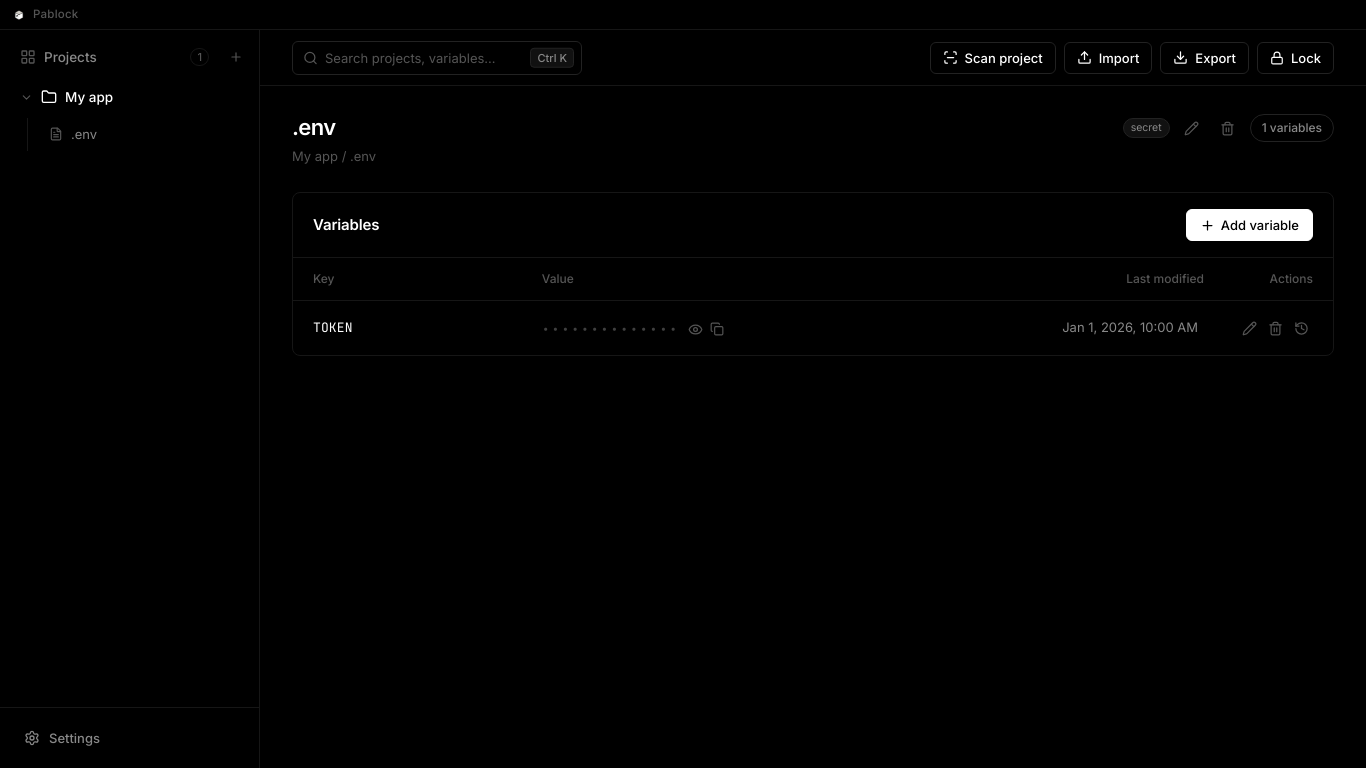
vault workflows › previews replace import before applying changes
This screenshot has width=1366, height=768.
Click the button with aria-label "Import files": (1108, 58) x1=1064 y1=42 x2=1152 y2=74
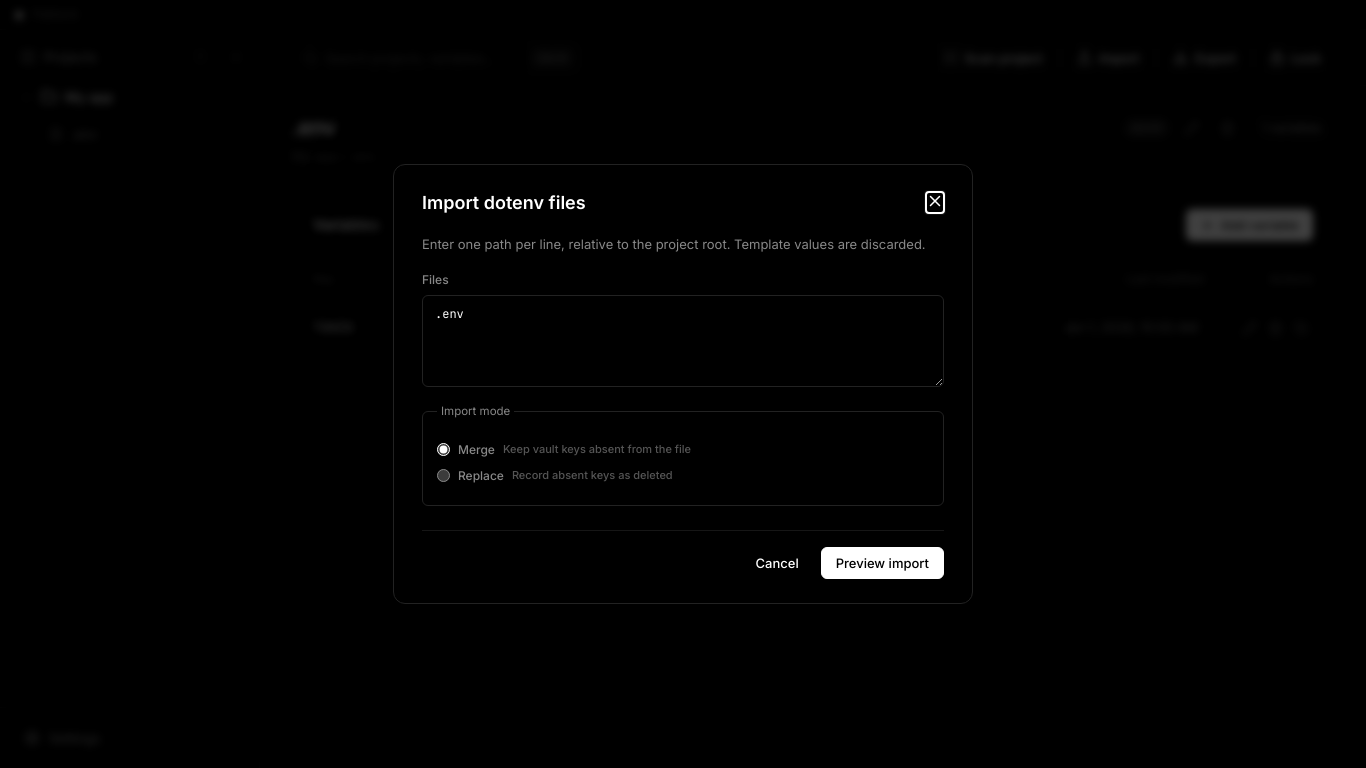
Click the radio button labelled "Replace Record absent keys as deleted": (444, 476) x1=437 y1=469 x2=450 y2=482
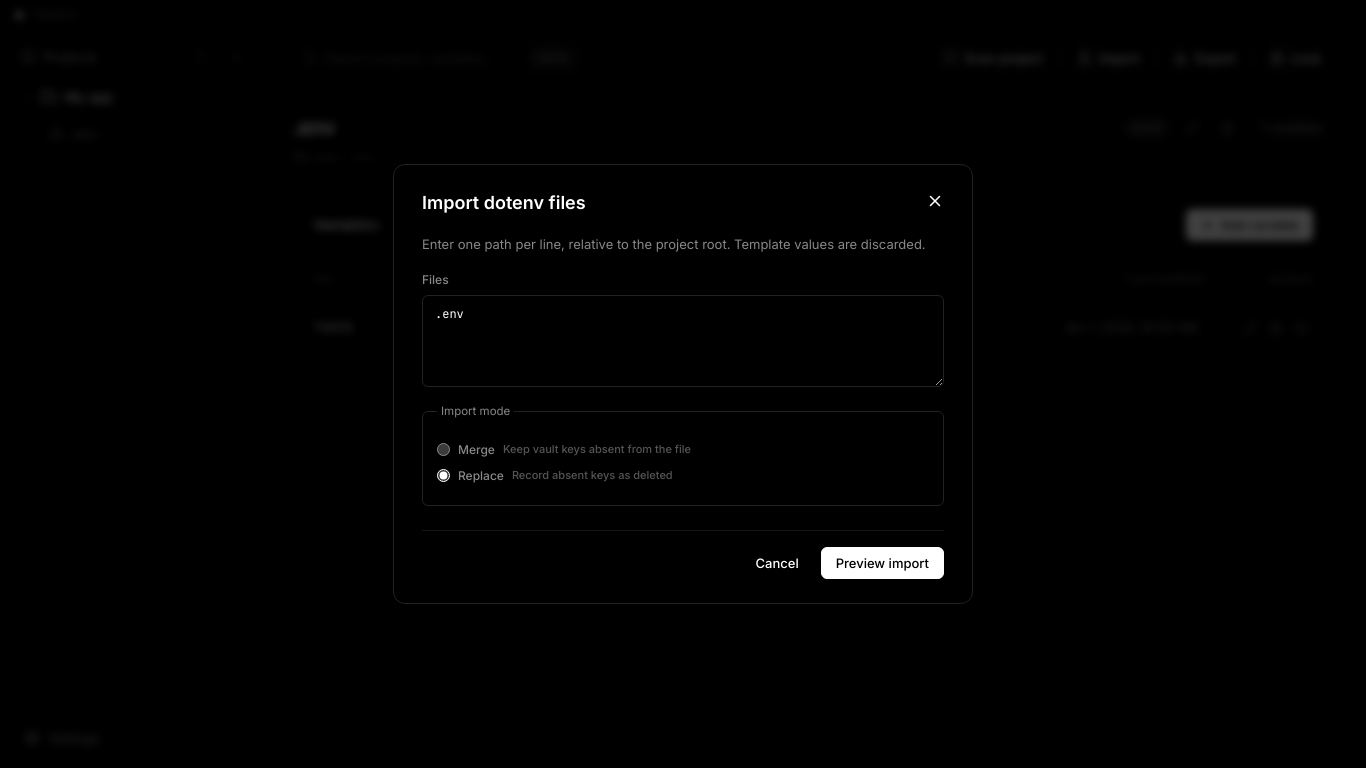
Click the button "Preview import": (882, 562) x1=821 y1=546 x2=944 y2=578
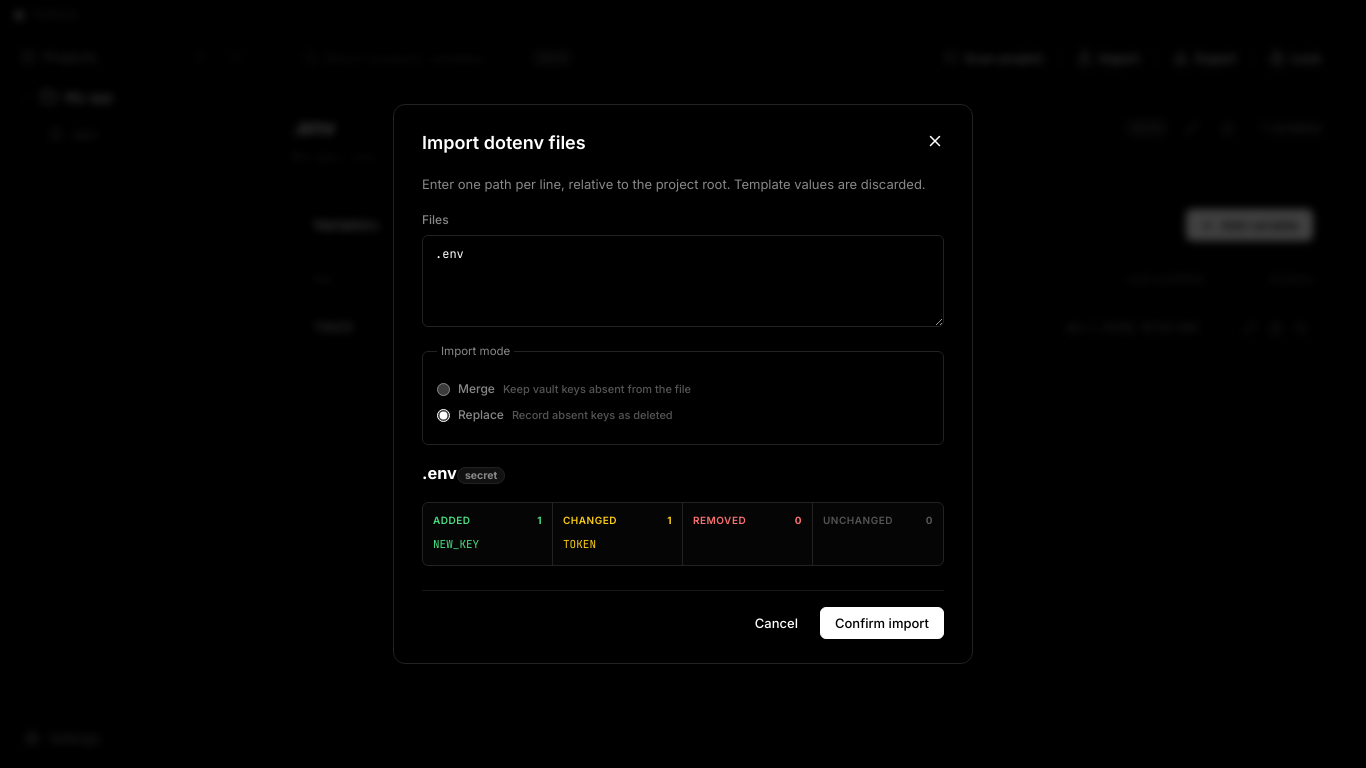
Check: the list item "NEW_KEY" is shown, box x1=433 y1=537 x2=479 y2=551
Click the button "Confirm import": (882, 622) x1=820 y1=606 x2=944 y2=638
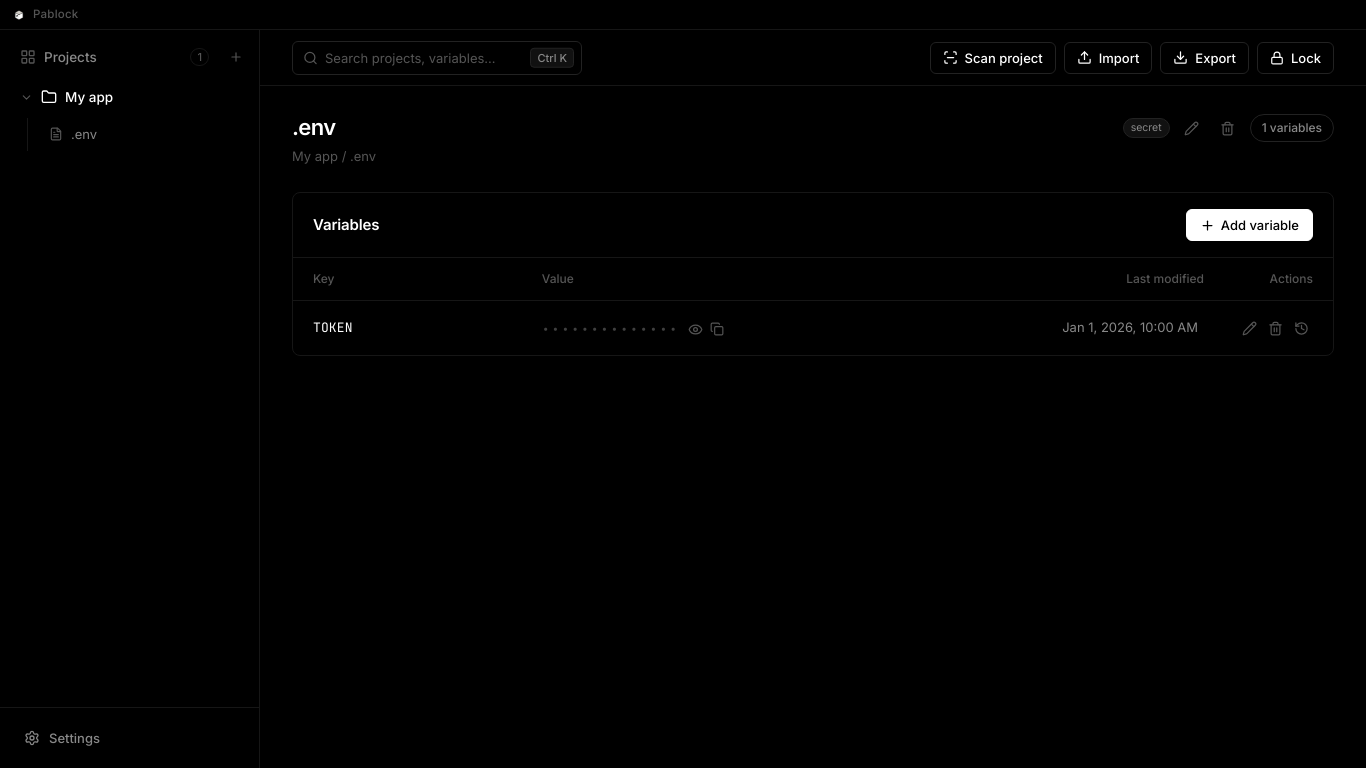
Check: the dialog is gone
